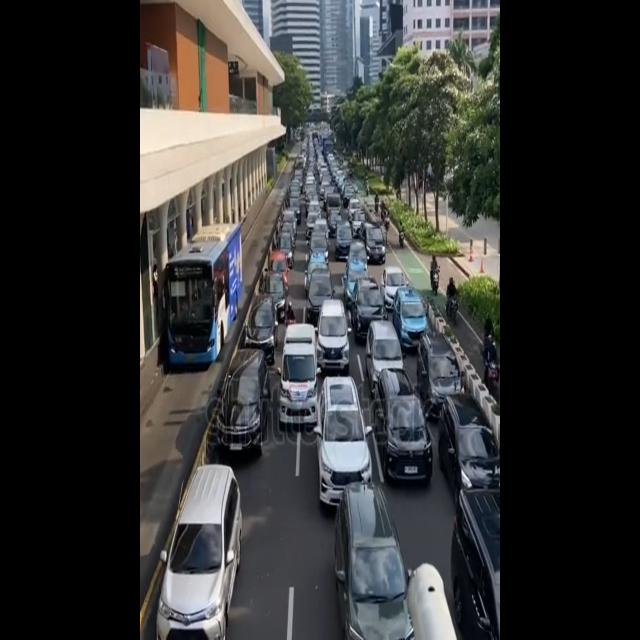Ambulance: (278, 320, 322, 432)
